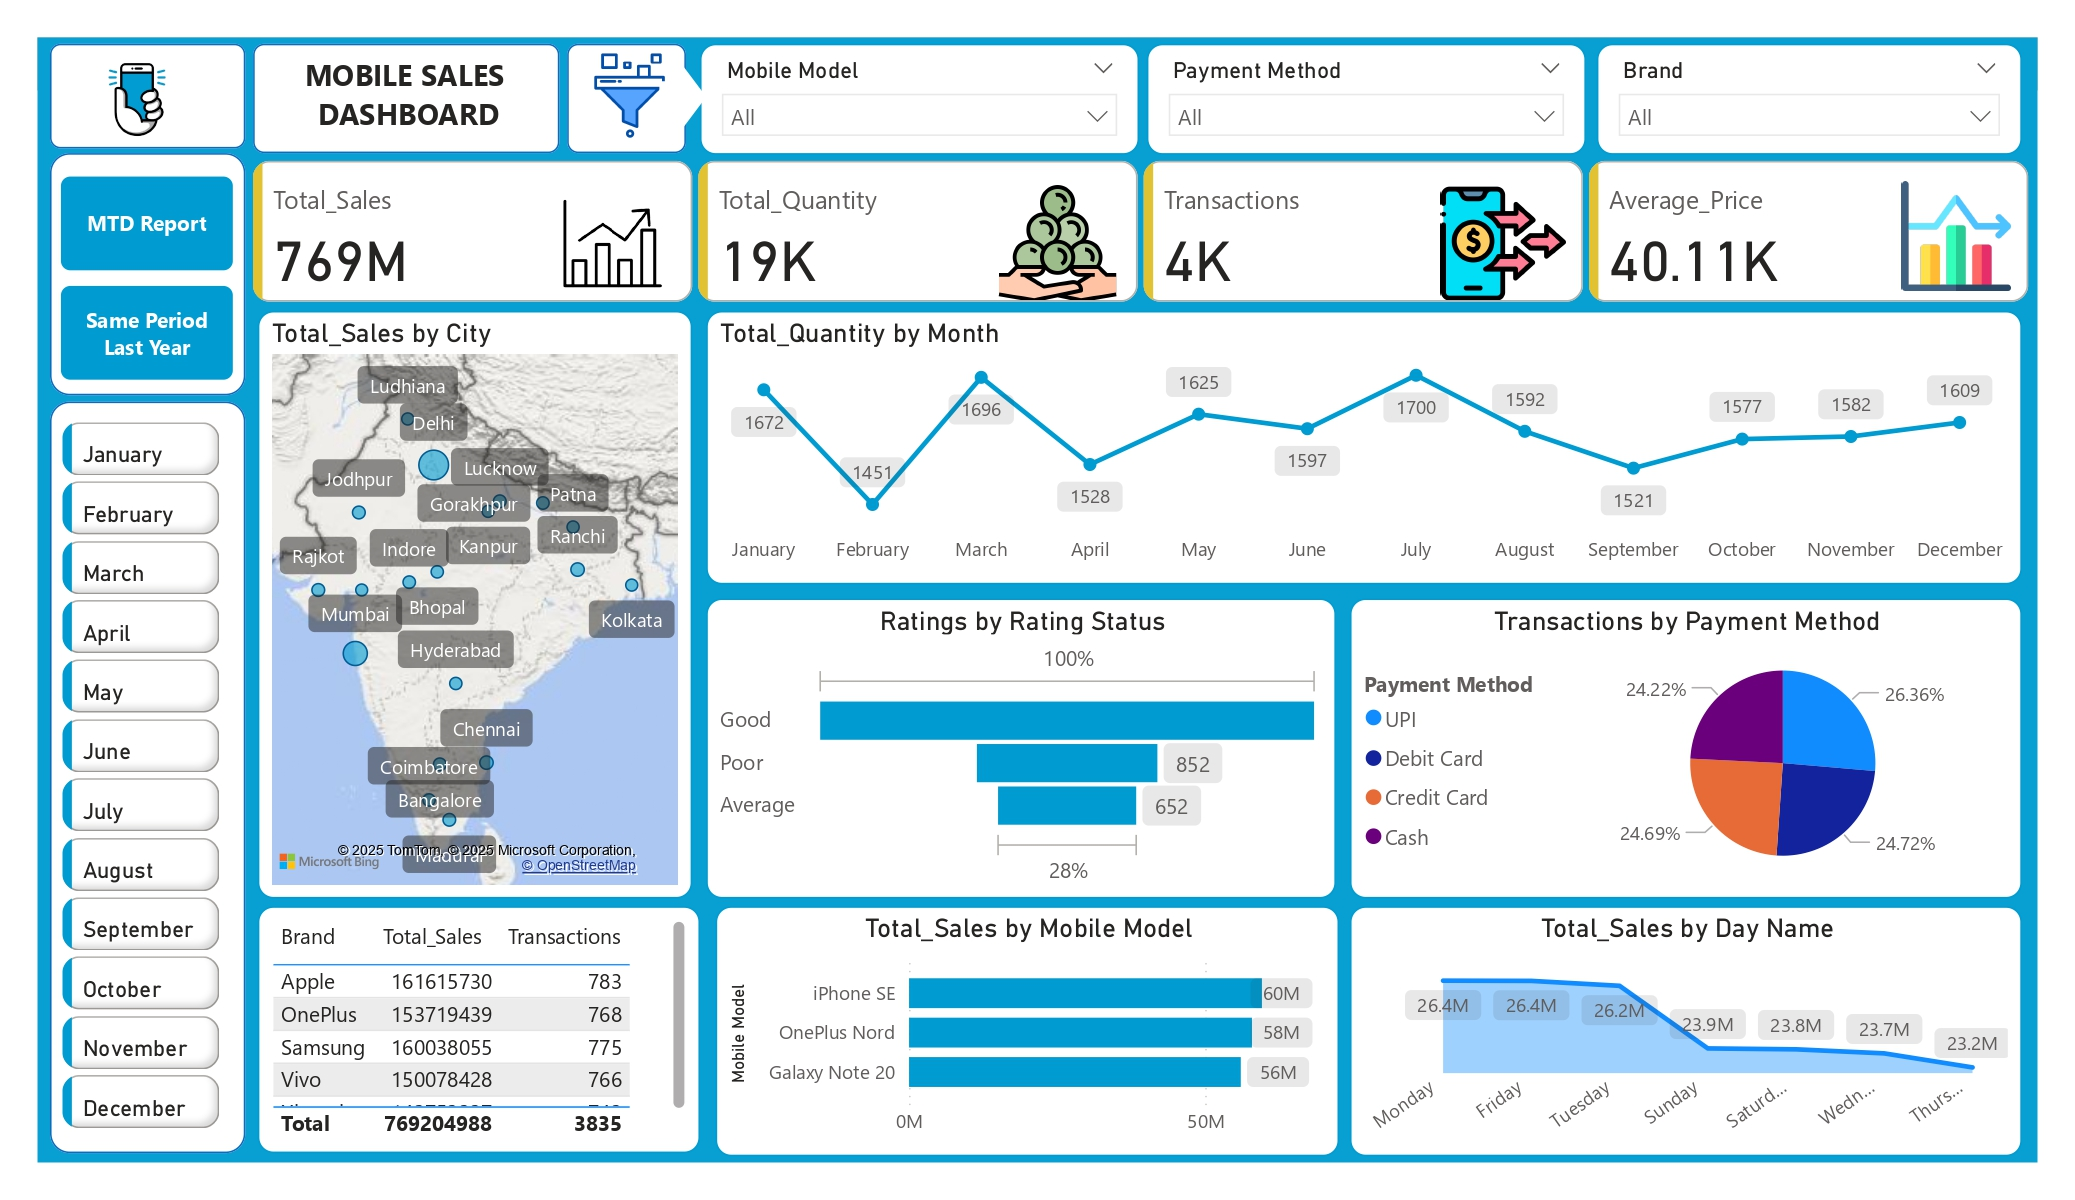

The page's visual inventory and layout, read from the dashboard file:
{"tool":"powerbi","page":{"name":"Dashboard","canvas":[1280,720],"ordinal":0},"visuals":[{"type":"shape","box":[10,10,120,73.8],"z":0},{"type":"image","box":[17.5,12.5,105,71.2],"z":1000},{"type":"shape","box":[10,92.5,120,167.5],"z":2000},{"type":"shape","box":[10,263.8,120,456.2],"z":3000},{"type":"advancedSlicerVisual","fields":{"Values":["Custom_Calender.Date.Variation.Date Hierarchy.Month"]},"box":[17.5,273.8,107.5,445],"z":4000},{"type":"cardVisual","fields":{"Data":["Sales_Data.Total_Sales","Sales_Data.Total_Quantity","Sales_Data.Transactions","Sales_Data.Average_Price"]},"box":[135,83.8,1145,103.8],"z":5000},{"type":"slicer","fields":{"Values":["Sales_Data.Mobile Model"]},"box":[422.5,7.5,281.2,76.2],"z":6000},{"type":"slicer","fields":{"Values":["Sales_Data.Payment Method"]},"box":[706.2,7.5,281.2,76.2],"z":7000},{"type":"slicer","fields":{"Values":["Sales_Data.Brand"]},"box":[990,7.5,281.2,76.2],"z":8000},{"type":"shape","box":[330,7.5,86.2,76.2],"z":9000},{"type":"image","box":[330,10,78.8,73.8],"z":10000},{"type":"shape","box":[135,10,191.2,73.8],"z":11000},{"type":"textbox","box":[147.5,12.5,165,71.2],"z":12000},{"type":"map","fields":{"Category":["Sales_Data.City"],"Size":["Sales_Data.Total_Sales"]},"box":[141.2,187.5,281.2,362.5],"z":13000},{"type":"lineChart","fields":{"Y":["Sales_Data.Total_Quantity"],"Category":["Custom_Calender.Date.Variation.Date Hierarchy.Month"]},"box":[433.8,187.5,838.8,160],"z":14000},{"type":"funnel","title":"Customer Ratings by Rating Status","fields":{"Y":["CountNonNull(Sales_Data.Customer Ratings)"],"Category":["Sales_Data.Rating Status"]},"box":[433.8,360,375,190],"z":15000},{"type":"pieChart","fields":{"Y":["Sales_Data.Transactions"],"Category":["Sales_Data.Payment Method"]},"box":[821.2,360,451.2,190],"z":16000},{"type":"clusteredBarChart","fields":{"Y":["Sales_Data.Total_Sales"],"Category":["Sales_Data.Mobile Model"]},"box":[433.8,562.5,375,148.8],"z":17000},{"type":"areaChart","fields":{"Category":["Custom_Calender.Day Name"],"Y":["Sales_Data.Total_Sales"]},"box":[821.2,562.5,450,148.8],"z":18000},{"type":"tableEx","fields":{"Values":["Sales_Data.Brand","Sales_Data.Total_Sales","Sales_Data.Transactions"]},"box":[141.2,562.5,281.2,148.8],"z":19000},{"type":"pageNavigator","box":[17.5,101.2,105,150],"z":20000}]}

Visuals, with their boxes on the page's 1280x720 design canvas (x1, y1, x2, y2). These are canvas units, not pixel positions in the 2075x1200 screenshot, which may show the page scaled, cropped or inside an application window:
shape: 10:10:130:84
image: 18:12:122:84
shape: 10:92:130:260
shape: 10:264:130:720
advancedSlicerVisual - Custom_Calender.Date.Variation.Date Hierarchy.Month: 18:274:125:719
cardVisual - Sales_Data.Total_Sales x Sales_Data.Total_Quantity: 135:84:1280:188
slicer - Sales_Data.Mobile Model: 422:8:704:84
slicer - Sales_Data.Payment Method: 706:8:987:84
slicer - Sales_Data.Brand: 990:8:1271:84
shape: 330:8:416:84
image: 330:10:409:84
shape: 135:10:326:84
textbox: 148:12:312:84
map - Sales_Data.City x Sales_Data.Total_Sales: 141:188:422:550
lineChart - Sales_Data.Total_Quantity x Custom_Calender.Date.Variation.Date Hierarchy.Month: 434:188:1273:348
"Customer Ratings by Rating Status" funnel: 434:360:809:550
pieChart - Sales_Data.Transactions x Sales_Data.Payment Method: 821:360:1272:550
clusteredBarChart - Sales_Data.Total_Sales x Sales_Data.Mobile Model: 434:562:809:711
areaChart - Custom_Calender.Day Name x Sales_Data.Total_Sales: 821:562:1271:711
tableEx - Sales_Data.Brand x Sales_Data.Total_Sales: 141:562:422:711
pageNavigator: 18:101:122:251
